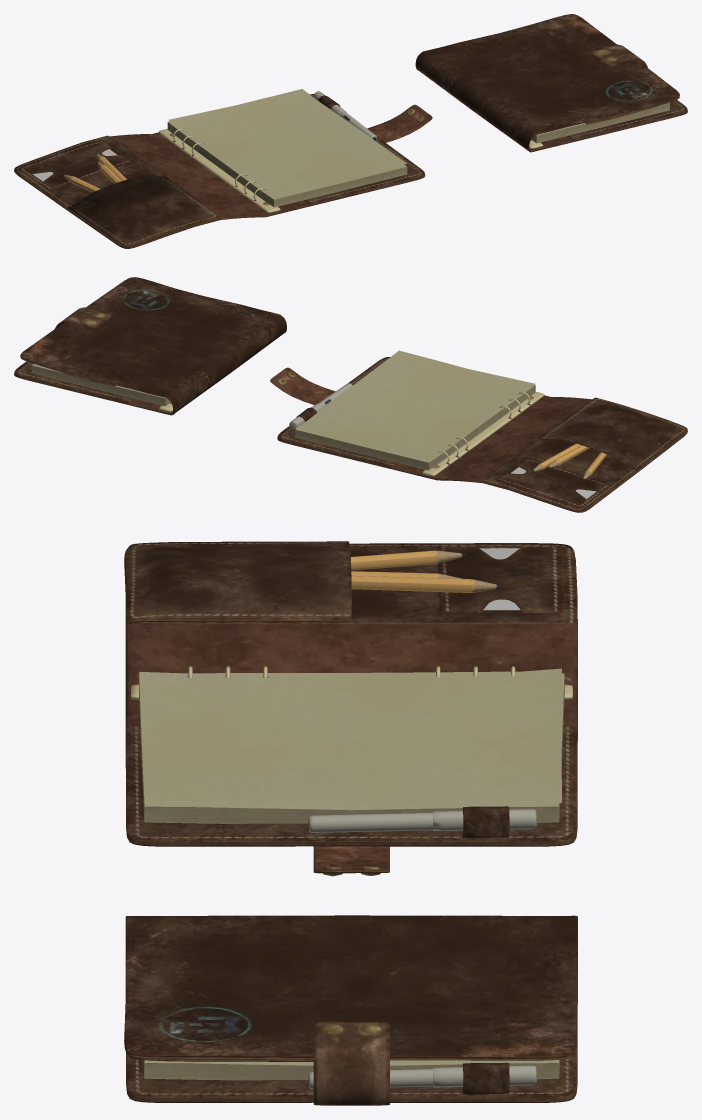
The model's file is binder_notebook_1k.glb.
The picture shows the model from 3 angles, top to bottom: view 1: azimuth 30°, elevation 25°; view 2: azimuth 150°, elevation 25°; view 3: azimuth 270°, elevation 25°; orthographic projection. The views are drawn at different scales.
Parts seen in each view (by area): view 1: binder_notebook, binder_notebook_closed; view 2: binder_notebook, binder_notebook_closed; view 3: binder_notebook, binder_notebook_closed.
Boxes of the visible parts, x1,y1,x2,y2 form: binder_notebook: (14, 89, 432, 248); binder_notebook_closed: (415, 14, 687, 152); binder_notebook: (270, 350, 687, 512); binder_notebook_closed: (14, 277, 286, 415); binder_notebook: (124, 541, 577, 876); binder_notebook_closed: (124, 915, 577, 1105).
Bounding box in the file's own units: 0.584 × 0.0253 × 0.2.
Materials: 1 (1 with a texture image).
